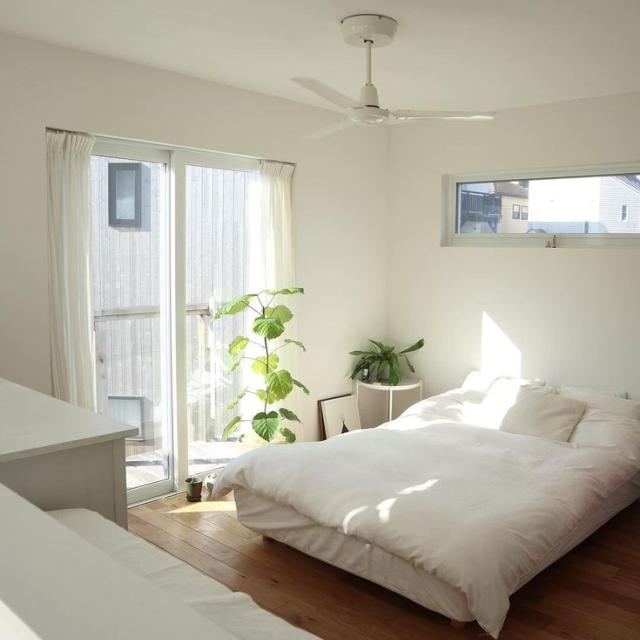obstacle: (229, 374, 640, 626)
